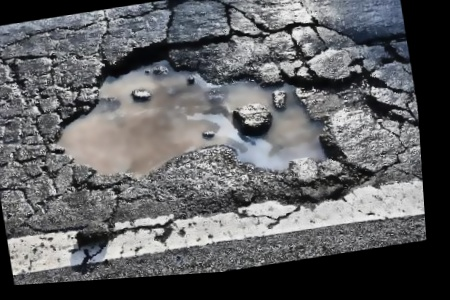pothole: (31, 6, 382, 242)
